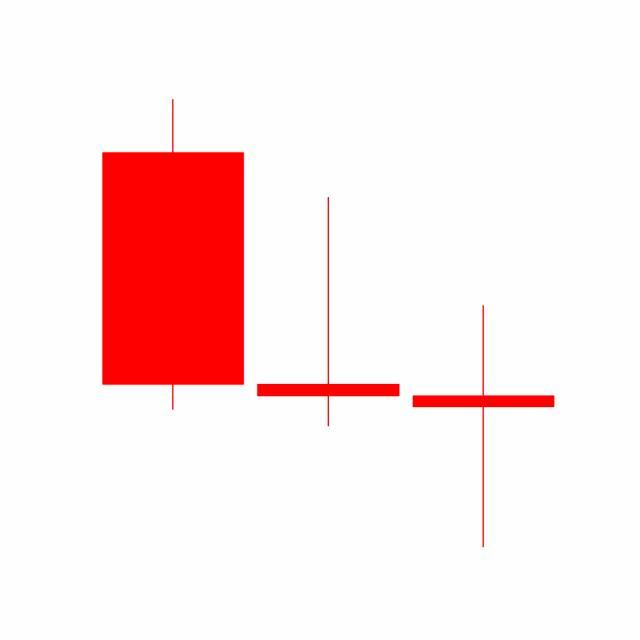Spinning Top: (250, 194, 407, 429)
